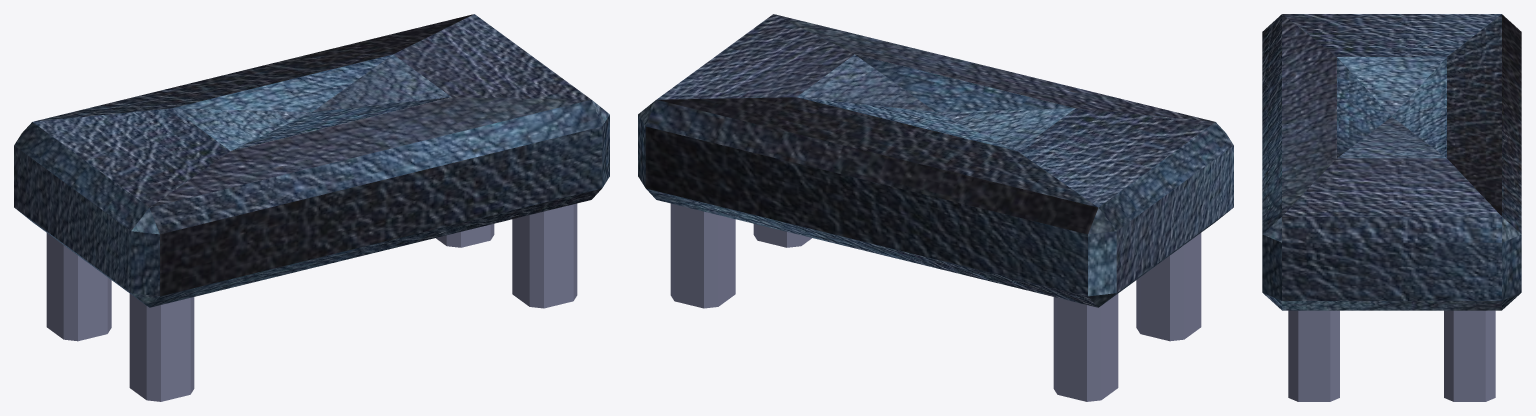
Rendered from game_isu.fbx.
3 views of the same model, side by side, from view 1: azimuth 30°, elevation 25°; view 2: azimuth 150°, elevation 25°; view 3: azimuth 270°, elevation 25° (orthographic). The views are drawn at different scales.
Parts seen in each view (by area): view 1: isu, hasira.003, hasira.001, hasira.002, hasira; view 2: isu, hasira.002, hasira, hasira.003, hasira.001; view 3: isu, hasira, hasira.001.
Part boxes in pixels (x1,y1,x2,y2): isu: (14,14,609,307); hasira.003: (129,293,194,401); hasira.001: (512,203,577,308); hasira.002: (46,233,111,341); hasira: (436,224,494,247); isu: (638,14,1233,307); hasira.002: (1053,293,1118,401); hasira: (670,203,735,308); hasira.003: (1136,233,1201,341); hasira.001: (753,224,811,247); isu: (1262,14,1521,310); hasira: (1444,310,1495,401); hasira.001: (1288,310,1339,401).
Bounding box in the file's own units: 500 × 208 × 250.
